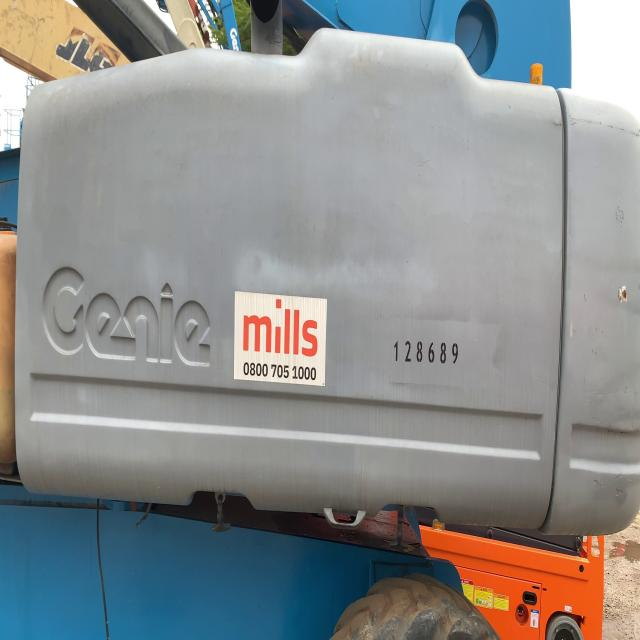Adesivos: (232, 288, 328, 389)
